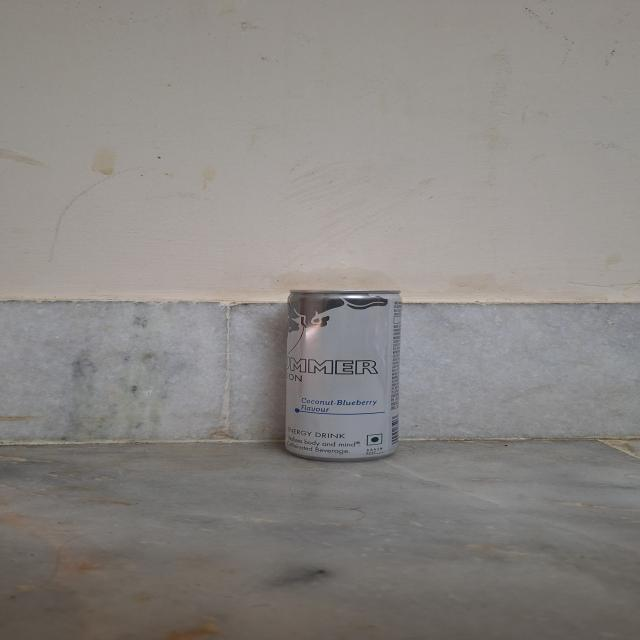Redbull Summer Edition: (273, 284, 430, 476)
